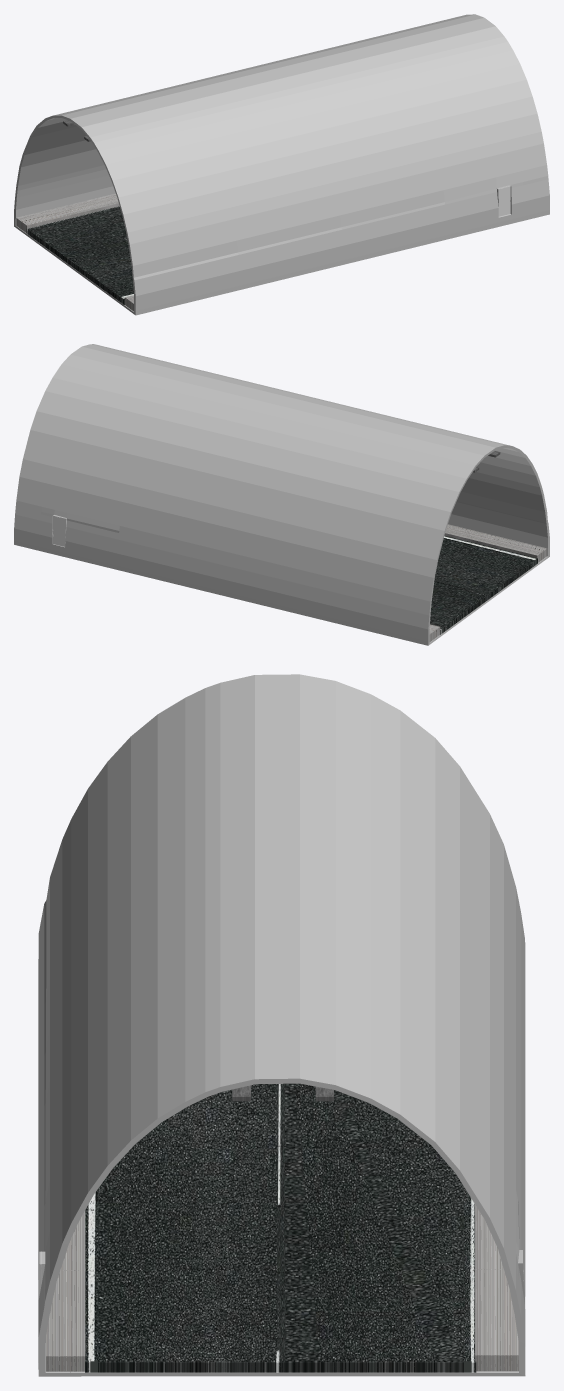
Rendered from Ааа.fbx.
The picture shows the model from 3 angles, top to bottom: view 1: azimuth 30°, elevation 25°; view 2: azimuth 150°, elevation 25°; view 3: azimuth 270°, elevation 25°; orthographic projection. The views are drawn at different scales.
Parts seen in each view (by area): view 1: tunnel, Grid, Grid.002; view 2: tunnel, Grid, Grid.001; view 3: tunnel, Grid, Grid.002, Grid.001.
Boxes of the visible parts, <box> form: tunnel: <box>14,14,549,315</box>; Grid: <box>26,206,133,304</box>; Grid.002: <box>16,193,119,232</box>; tunnel: <box>14,344,549,645</box>; Grid: <box>430,535,537,634</box>; Grid.001: <box>444,524,547,562</box>; tunnel: <box>38,674,525,1376</box>; Grid: <box>85,1083,476,1372</box>; Grid.002: <box>475,1204,518,1371</box>; Grid.001: <box>46,1210,85,1371</box>.
Size of the model in its own units: 3223 by 1108 by 1640.
